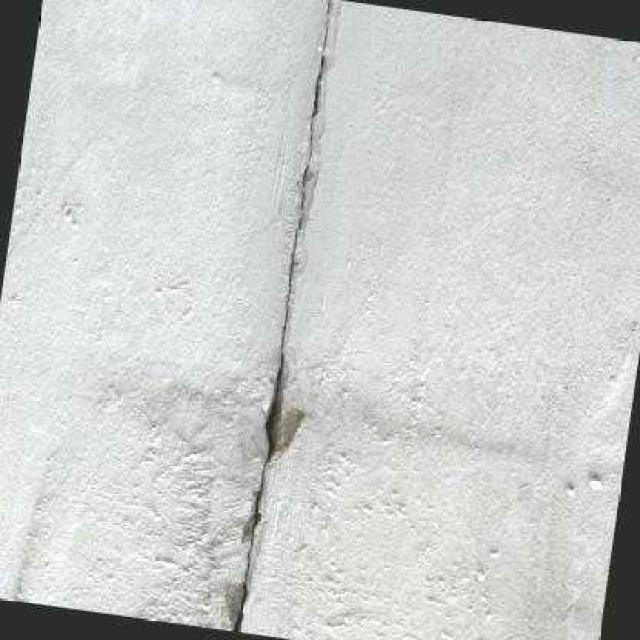D00: (230, 0, 330, 632)
